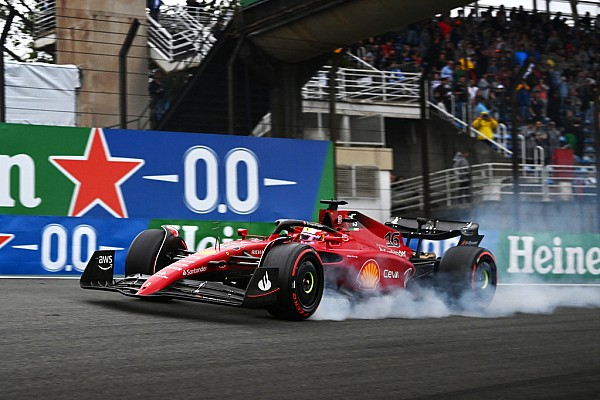Formule 1: (79, 208, 499, 318)
